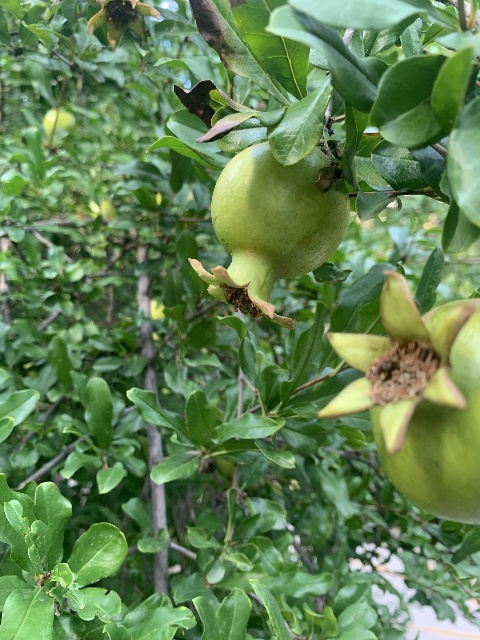mid-growth: (317, 267, 480, 521), (187, 141, 350, 330)
